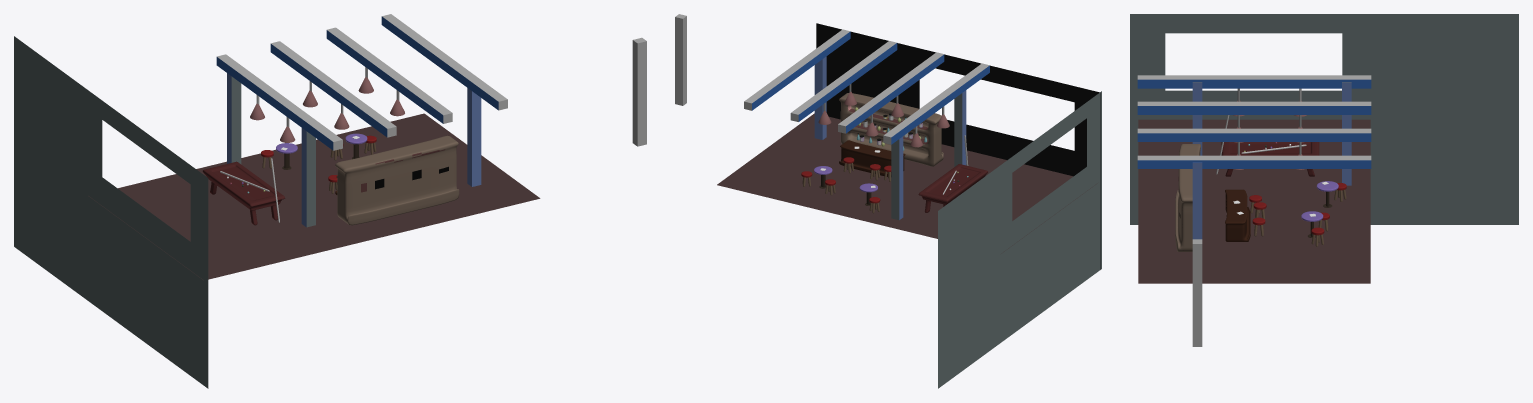
File: RoobiosRoad.fbx
3 renders of one model, left to right at view 1: azimuth 30°, elevation 25°; view 2: azimuth 150°, elevation 25°; view 3: azimuth 270°, elevation 25°, orthographic. The views are drawn at different scales.
Parts seen in each view (by area): view 1: pPlane2, pPlane1, pCube3, pCube18, pCube19, pCube20, pCube17, pCube8, pCube11, pCube9, pCube10, pCube21; view 2: pPlane2, pPlane1, pPlane3, pCube3, pCube18, pCube17, pCube19, pCube20, pCube8, pCube1, pCube11, pCube21 (+2 smaller); view 3: pPlane2, pPlane1, pCube18, pCube19, pCube17, pCube20, pCube3, pCube8, pCube1, pCube11, pCube10, pCube21 (+1 smaller).
Boxes of the visible parts, left/top/right/bottom form: pPlane2: left=14, top=36, right=208, bottom=388; pPlane1: left=88, top=113, right=540, bottom=280; pCube3: left=335, top=135, right=459, bottom=225; pCube18: left=326, top=27, right=452, bottom=123; pCube19: left=270, top=41, right=396, bottom=137; pCube20: left=216, top=54, right=342, bottom=150; pCube17: left=381, top=14, right=507, bottom=110; pCube8: left=202, top=161, right=285, bottom=225; pCube11: left=632, top=37, right=646, bottom=146; pCube9: left=301, top=128, right=315, bottom=227; pCube10: left=467, top=88, right=481, bottom=186; pCube21: left=227, top=73, right=241, bottom=164; pPlane2: left=938, top=91, right=1101, bottom=388; pPlane1: left=717, top=113, right=1097, bottom=253; pPlane3: left=816, top=23, right=1100, bottom=269; pCube3: left=839, top=93, right=943, bottom=166; pCube18: left=790, top=41, right=897, bottom=121; pCube17: left=744, top=29, right=850, bottom=110; pCube19: left=838, top=52, right=944, bottom=133; pCube20: left=883, top=63, right=989, bottom=144; pCube8: left=918, top=164, right=987, bottom=212; pCube1: left=839, top=140, right=905, bottom=176; pCube11: left=675, top=14, right=686, bottom=105; pCube21: left=891, top=136, right=903, bottom=220; pPlane2: left=1130, top=14, right=1518, bottom=224; pPlane1: left=1138, top=119, right=1370, bottom=283; pCube18: left=1137, top=128, right=1371, bottom=141; pCube19: left=1137, top=101, right=1371, bottom=114; pCube17: left=1137, top=155, right=1371, bottom=168; pCube20: left=1137, top=75, right=1371, bottom=88; pCube3: left=1175, top=144, right=1200, bottom=251; pCube8: left=1221, top=142, right=1319, bottom=176; pCube1: left=1225, top=189, right=1250, bottom=241; pCube11: left=1192, top=239, right=1202, bottom=346; pCube10: left=1192, top=162, right=1202, bottom=239; pCube21: left=1342, top=82, right=1351, bottom=185.
Bounding box in the file's own units: 129 × 55.88 × 92.6.
